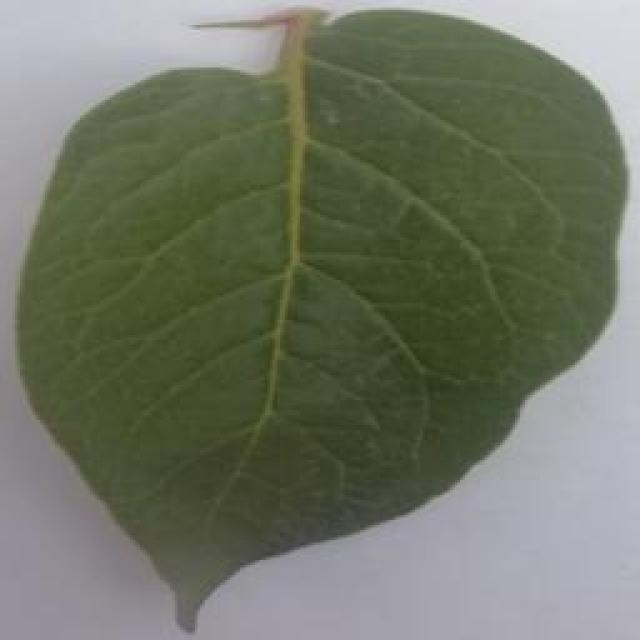Potato_Healthy: (18, 9, 617, 634)
